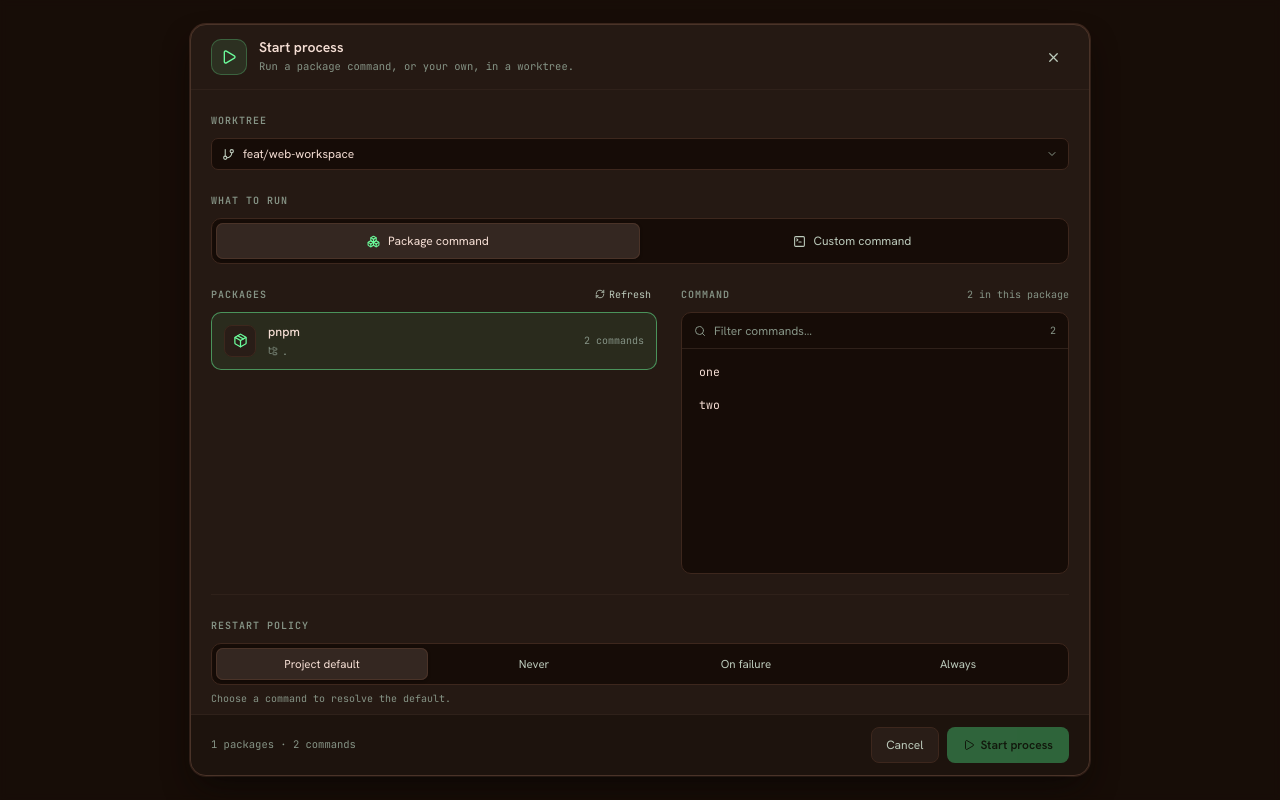
Test case: shows the inherited policy read-only and hides retries when the policy is never
What coordinates should you click on to do the following:
click the option "one"
I would click on:
 (709, 372)
Its box is [688, 355, 1062, 388].
(page scrolled)
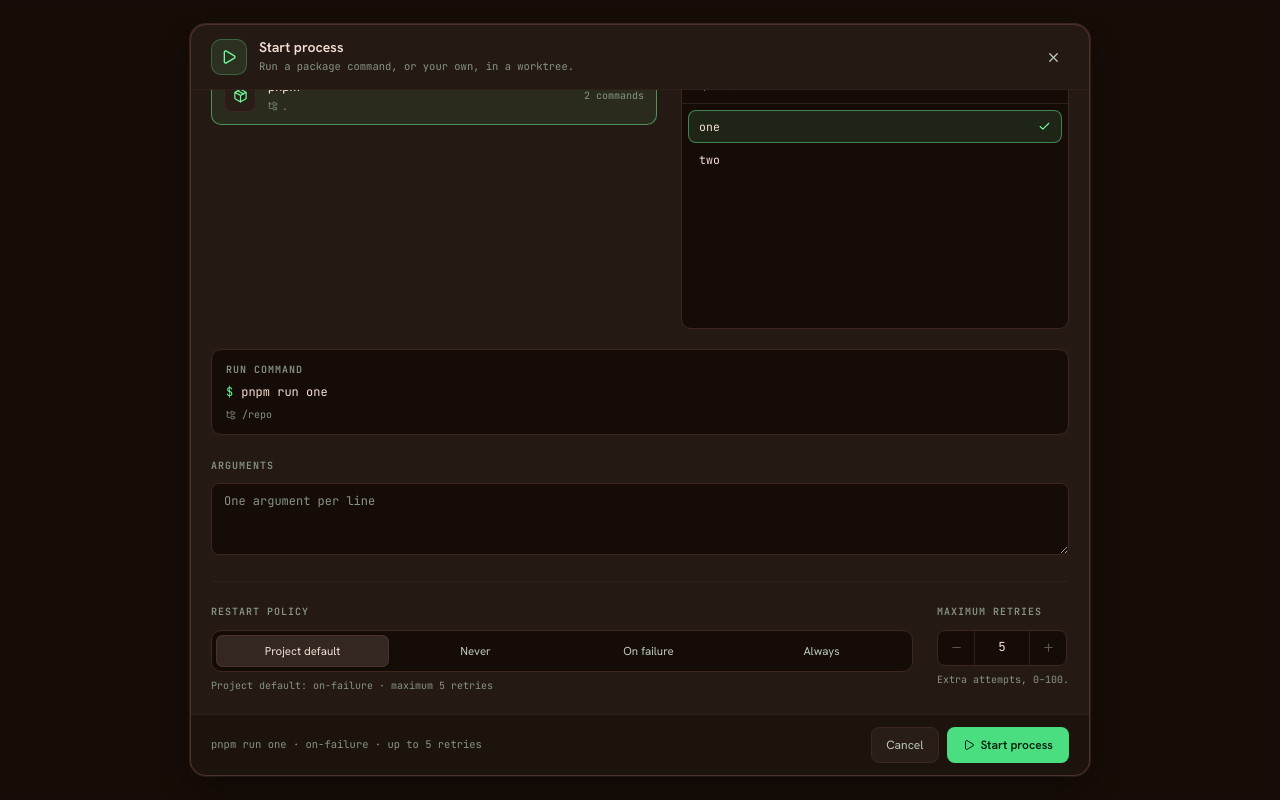
Now the button "Start process" is enabled, box [946, 727, 1069, 763]
Now the number field named "Maximum retries" holds "5", box [974, 630, 1030, 664]
Now the text "Project default: on-failure · maximum 5 retries" is shown, box [211, 678, 493, 692]
What coordinates should you click on to do the following:
click the button "Never"
I would click on:
 (476, 650)
Its box is [389, 634, 562, 666].
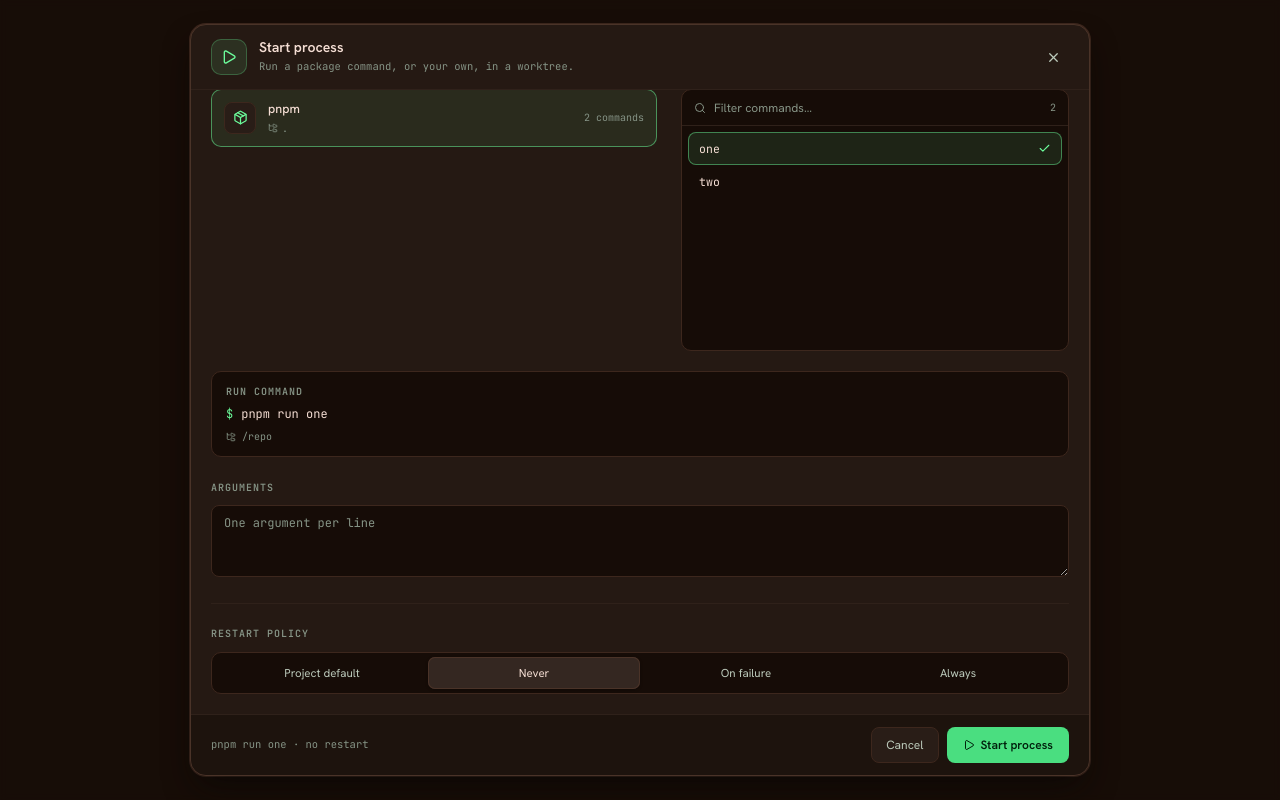
Now the text labelled "Maximum retries" is gone
